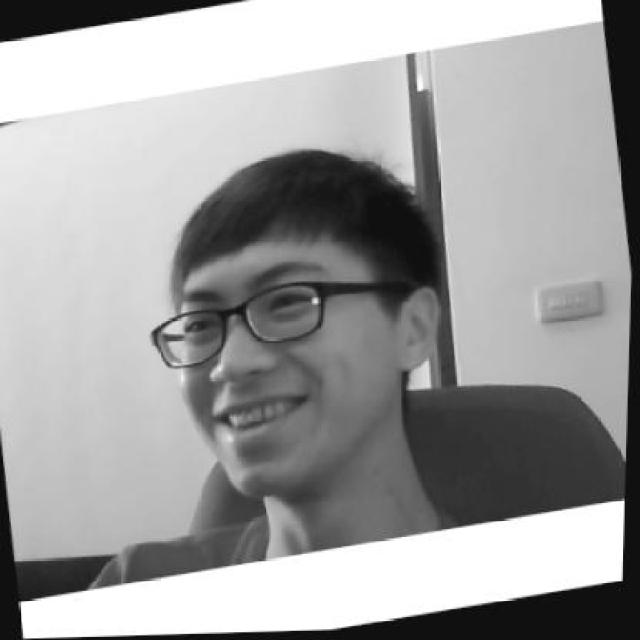attentif: (122, 132, 467, 512)
